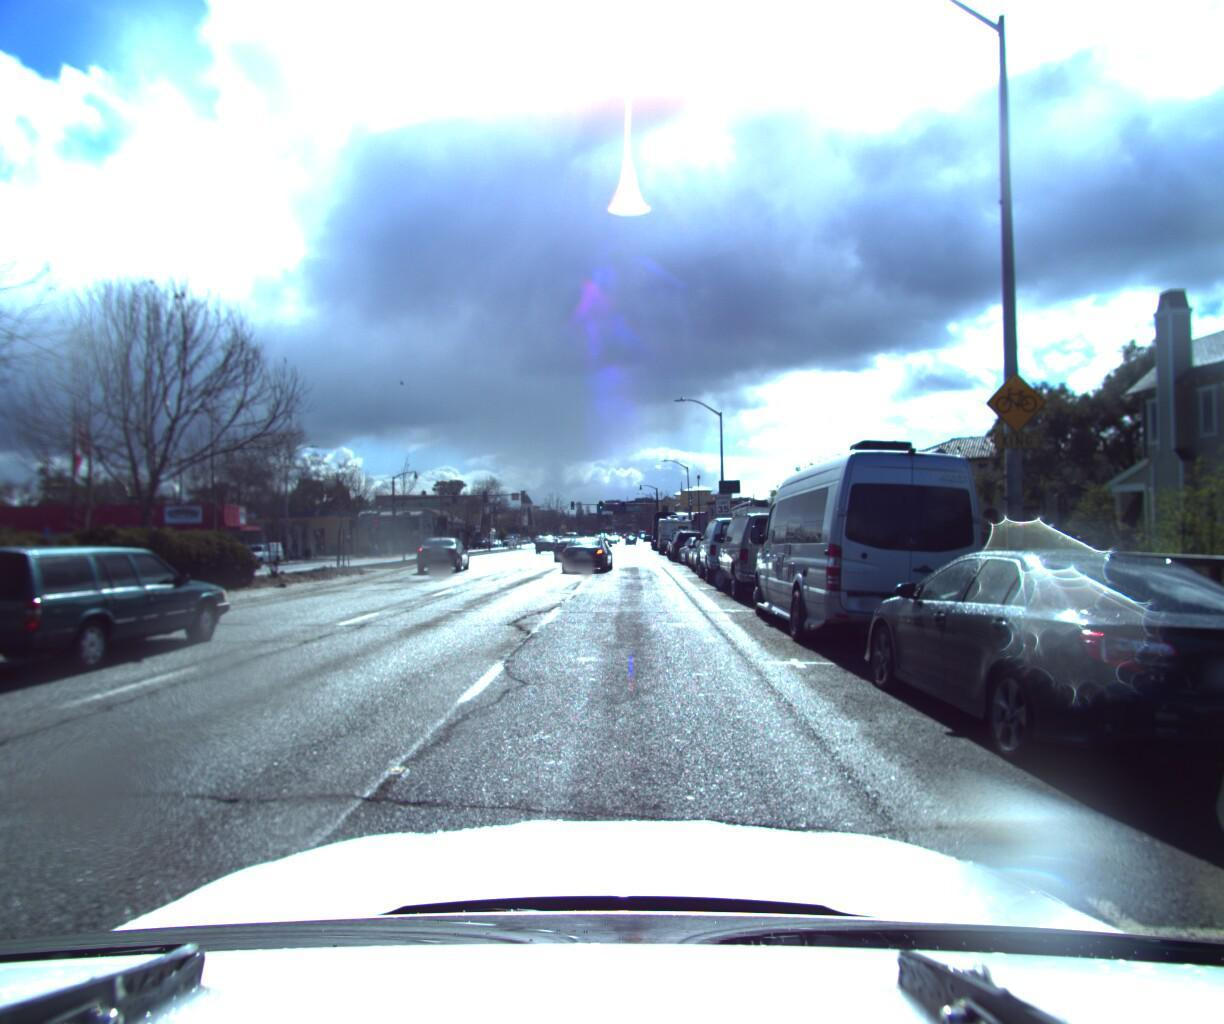car: (849, 541, 1224, 819), (745, 423, 1011, 671), (0, 541, 248, 690), (716, 496, 835, 605), (696, 513, 782, 584), (556, 532, 614, 573), (416, 534, 474, 573), (228, 537, 289, 566), (667, 525, 706, 558), (527, 530, 558, 550)
other_vehicle: (655, 510, 694, 552)
truck: (650, 506, 681, 548)
